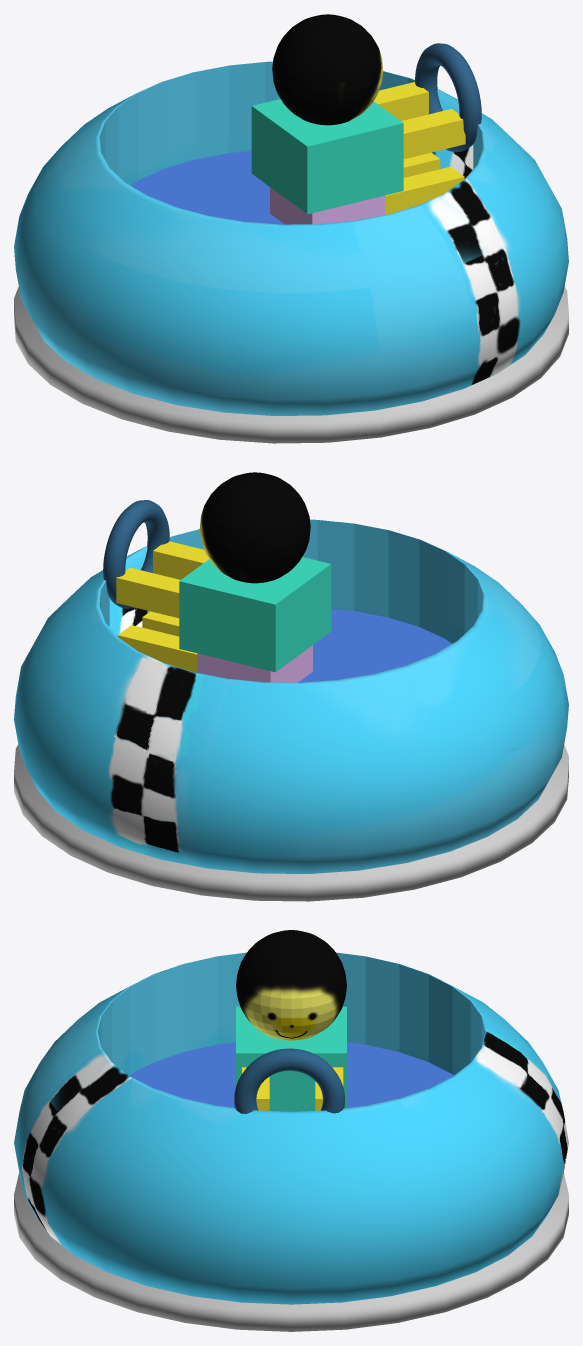
Rendered from Bumper Car.fbx.
3 views of the same model, one above another, from view 1: azimuth 30°, elevation 25°; view 2: azimuth 150°, elevation 25°; view 3: azimuth 270°, elevation 25° (orthographic).
Parts seen in each view (by area): view 1: Sphere.001, Cylinder.001, Cube.003, Sphere, Cylinder.002, Torus, Cube.005, Cube.004, Cube.006, Cube.007, Cube.008; view 2: Sphere.001, Cylinder.001, Cube.003, Sphere, Cylinder.002, Torus, Cube.007, Cube.004, Cube.008, Cube.005, Cube.006; view 3: Sphere.001, Cylinder.001, Sphere, Cylinder.002, Cube.003, Torus.
Boxes of the visible parts, x1,y1,x2,y2 form: Sphere.001: (14, 61, 568, 415); Cylinder.001: (14, 286, 568, 443); Cube.003: (251, 99, 403, 214); Sphere: (272, 14, 383, 125); Cylinder.002: (131, 151, 284, 224); Torus: (415, 43, 481, 151); Cube.005: (401, 109, 465, 158); Cube.004: (270, 187, 385, 224); Cube.006: (385, 166, 464, 214); Cube.007: (374, 82, 428, 120); Cube.008: (403, 152, 440, 177); Sphere.001: (14, 519, 568, 873); Cylinder.001: (14, 744, 568, 901); Cube.003: (179, 557, 331, 672); Sphere: (199, 472, 310, 583); Cylinder.002: (298, 609, 451, 682); Torus: (103, 500, 169, 608); Cube.007: (116, 567, 180, 618); Cube.004: (197, 645, 312, 682); Cube.008: (117, 625, 197, 672); Cube.005: (153, 541, 208, 579); Cube.006: (142, 611, 179, 636); Sphere.001: (14, 952, 568, 1304); Cylinder.001: (14, 1172, 568, 1331); Sphere: (236, 930, 346, 1040); Cylinder.002: (129, 1042, 453, 1107); Cube.003: (236, 1006, 346, 1111); Torus: (234, 1048, 344, 1113).
Bounding box in the file's own units: 50 × 50 × 29.54.
